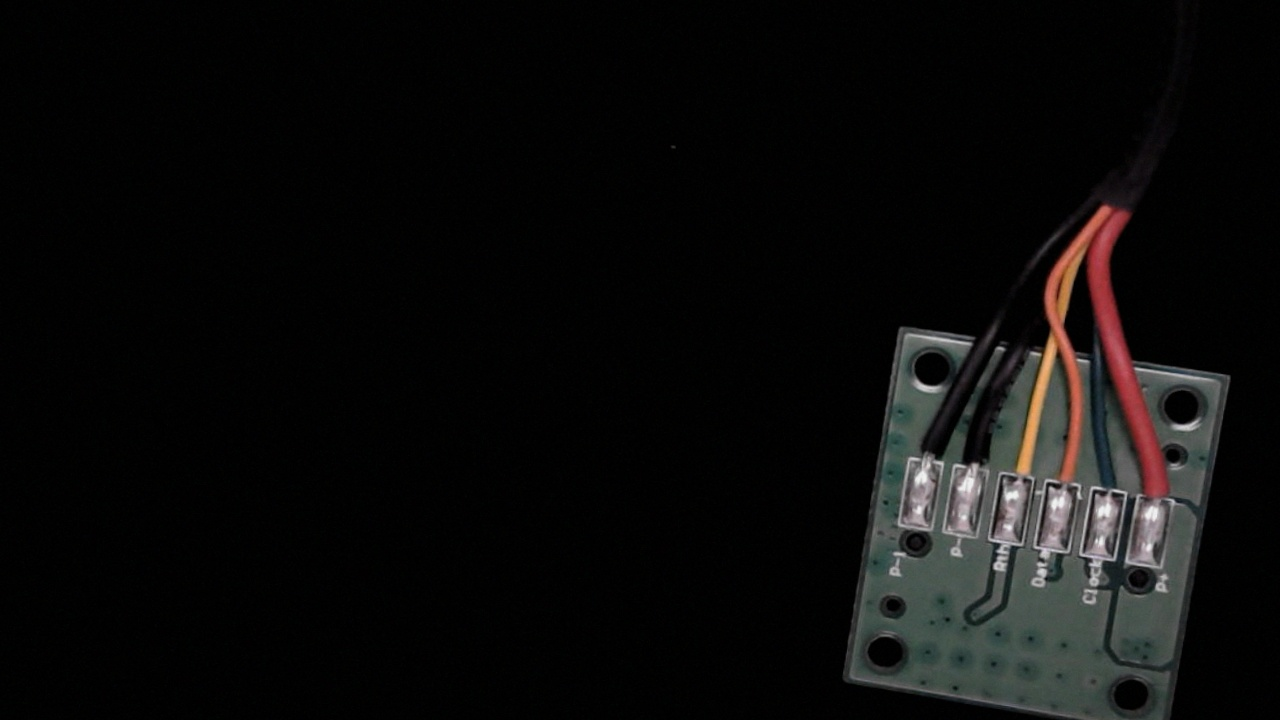Black: (956, 414, 1000, 486)
Black1: (907, 409, 953, 478)
Green: (1086, 444, 1136, 508)
Orange: (1043, 433, 1089, 502)
Red: (1135, 447, 1185, 515)
Yellow: (998, 419, 1047, 494)
